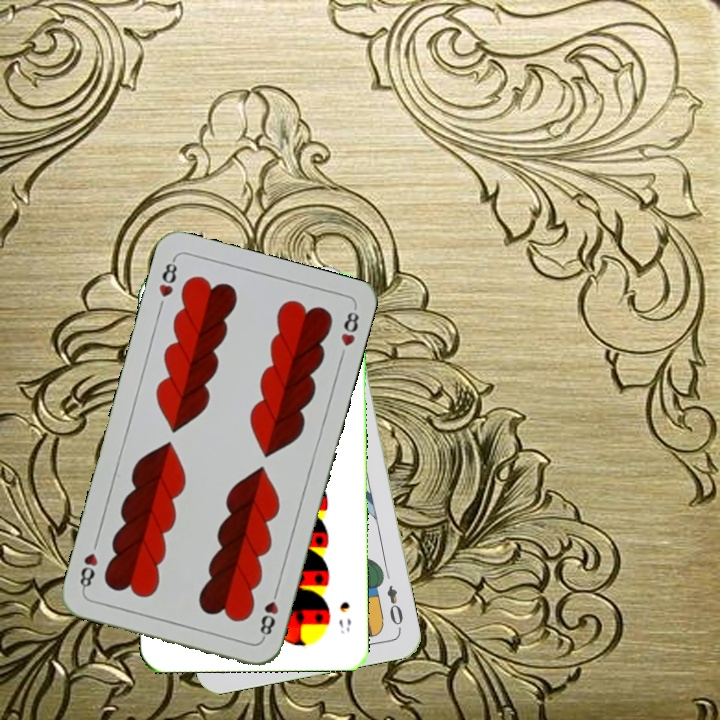EO: (383, 581, 406, 633)
H8: (256, 584, 281, 642), (154, 254, 180, 300)
S8: (335, 597, 354, 636)
